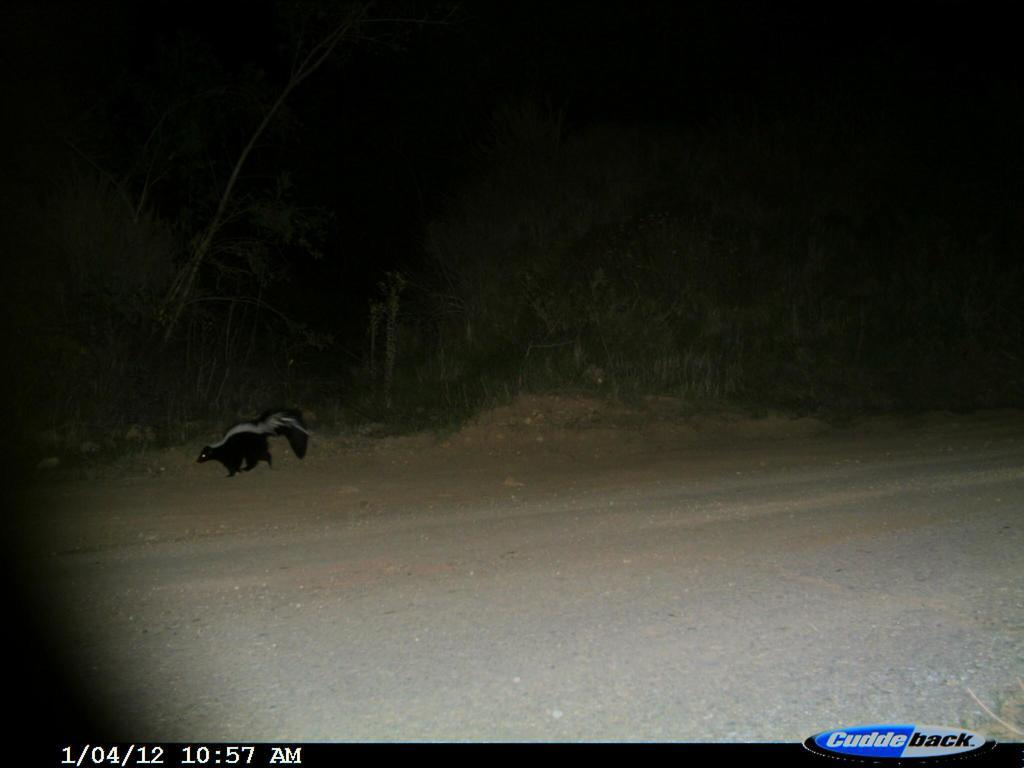skunk: (190, 395, 324, 484)
